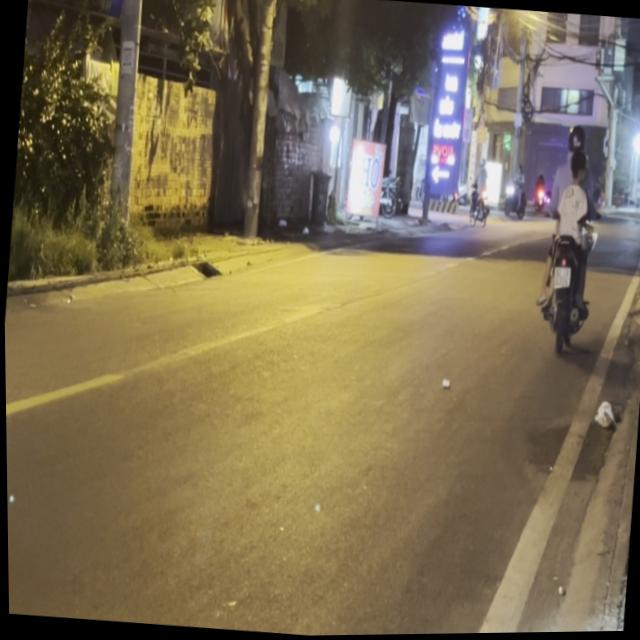helmet: (564, 124, 585, 155)
licenseplate: (527, 130, 603, 353)
motorcyclist: (565, 145, 587, 185)
nohelmet: (551, 267, 570, 289)
